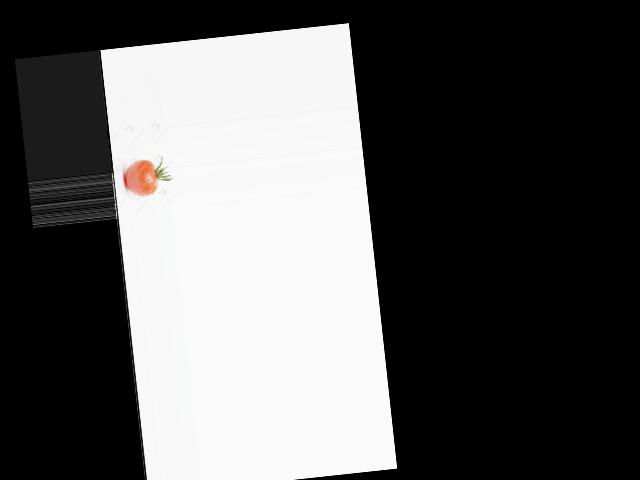tomato: (122, 157, 158, 197)
